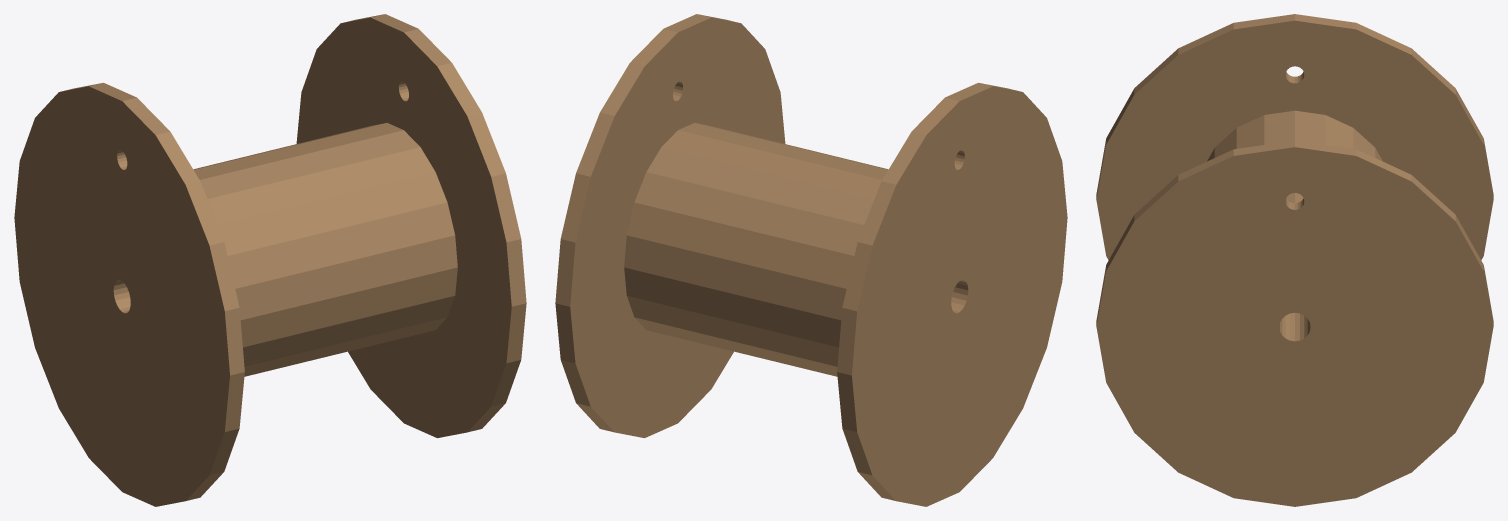
File: reel-cable-630.glb
3 views of the same model, side by side, from view 1: azimuth 30°, elevation 25°; view 2: azimuth 150°, elevation 25°; view 3: azimuth 270°, elevation 25° (orthographic). The views are drawn at different scales.
Parts seen in each view (by area): view 1: body; view 2: body; view 3: body.
Boxes of the visible parts, left/top/right/bottom form: body: left=14, top=14, right=526, bottom=506; body: left=555, top=14, right=1067, bottom=506; body: left=1096, top=14, right=1493, bottom=506.
Size of what is drawn, in the model's own units: 0.5 by 0.63 by 0.63.
